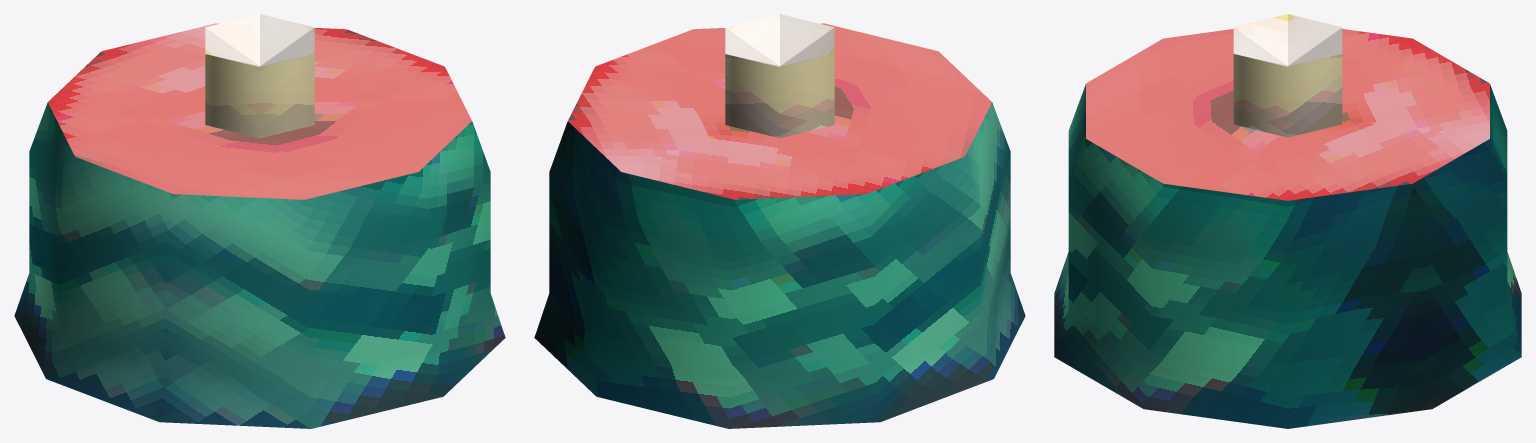
The model's file is Meat_Chunk.glb.
3 renders of one model, left to right at view 1: azimuth 30°, elevation 25°; view 2: azimuth 150°, elevation 25°; view 3: azimuth 270°, elevation 25°, orthographic.
Visible parts, largest first — view 1: Meat; view 2: Meat; view 3: Meat.
Boxes of the visible parts, x1,y1,x2,y2 form: Meat: (14, 14, 505, 428); Meat: (534, 14, 1025, 428); Meat: (1054, 14, 1521, 428).
Bounding box in the file's own units: 7.14 × 4.85 × 6.79.
Materials: 1 (1 with a texture image).
